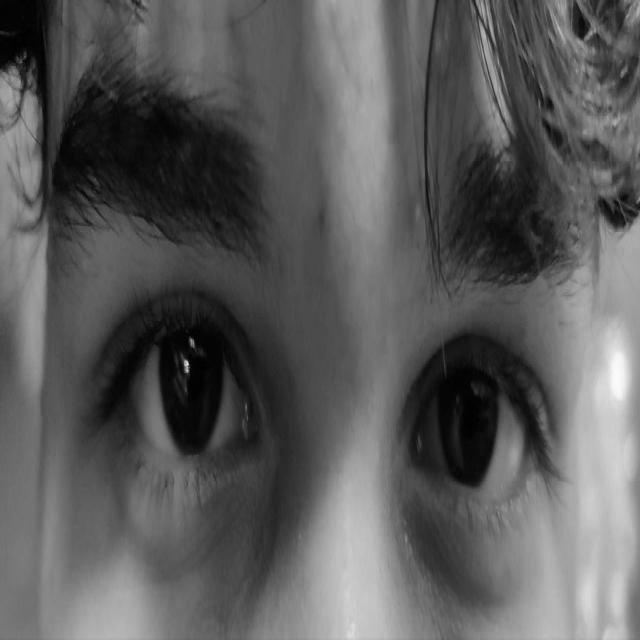real: (70, 142, 576, 592)
